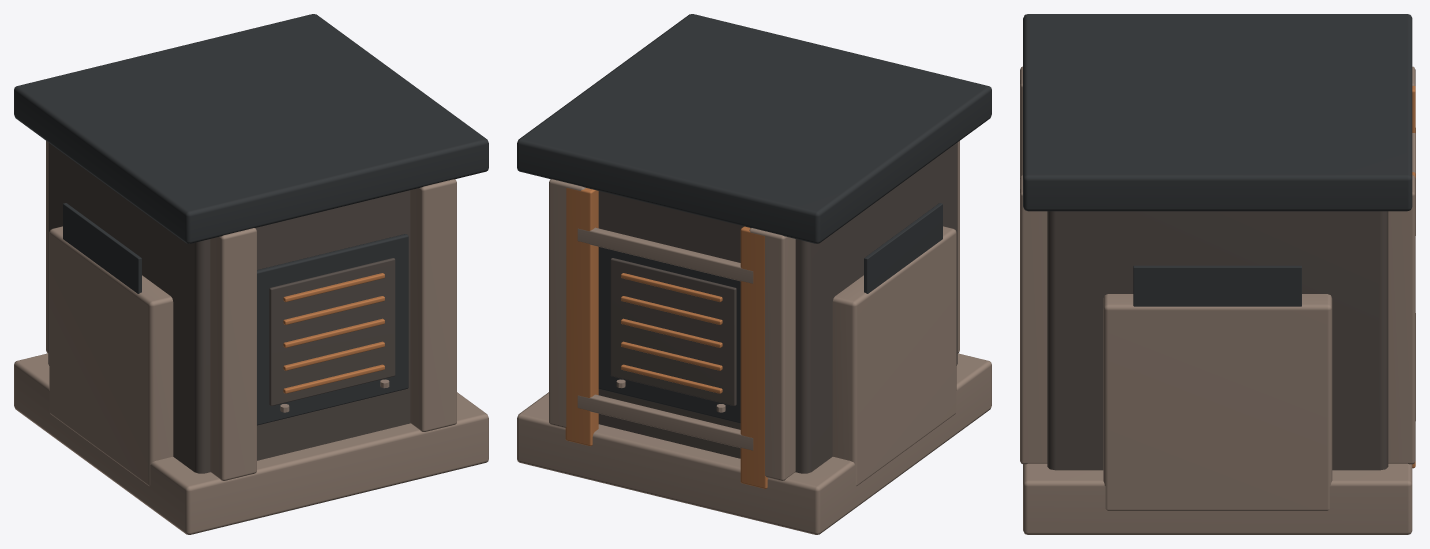
Rendered from refinery-0.glb.
3 renders of one model, left to right at view 1: azimuth 30°, elevation 25°; view 2: azimuth 150°, elevation 25°; view 3: azimuth 270°, elevation 25°, orthographic. The views are drawn at different scales.
Parts seen in each view (by area): view 1: refinery_2, refinery_1, refinery_0, refinery_3; view 2: refinery_2, refinery_1, refinery_0, refinery_3; view 3: refinery_2, refinery_1, refinery_0.
Part boxes in pixels (<box>): refinery_2: <box>14,14,488,425</box>; refinery_1: <box>14,141,488,534</box>; refinery_0: <box>48,142,410,473</box>; refinery_3: <box>283,273,384,393</box>; refinery_2: <box>517,14,991,423</box>; refinery_1: <box>517,141,991,534</box>; refinery_0: <box>598,142,957,473</box>; refinery_3: <box>565,188,767,488</box>; refinery_2: <box>1023,14,1412,306</box>; refinery_1: <box>1020,66,1415,534</box>; refinery_0: <box>1047,211,1388,470</box>.
Bounding box in the file's own units: 0.975 × 0.99 × 0.986.
